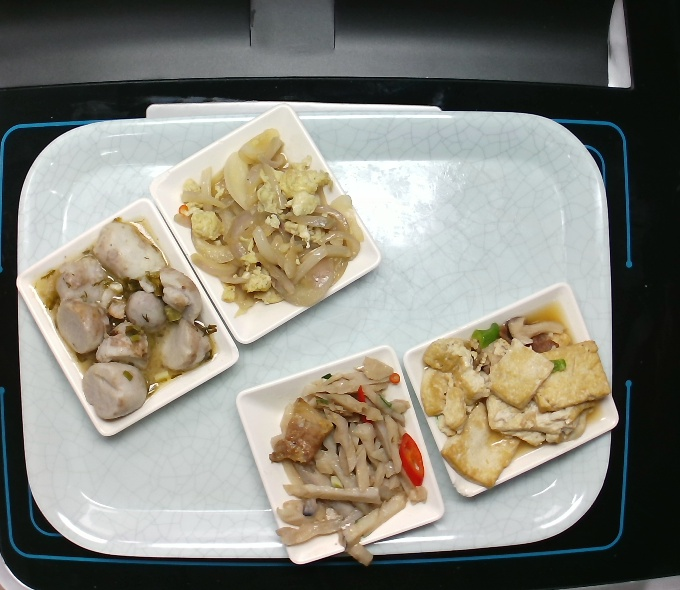wcq-JiaChangDouFu: (417, 315, 613, 488)
wcq-QingChaoOuPian: (269, 360, 436, 560)
wcq-YangCongChaoDan: (161, 133, 367, 315)
wcq-YangYu: (46, 212, 224, 423)
